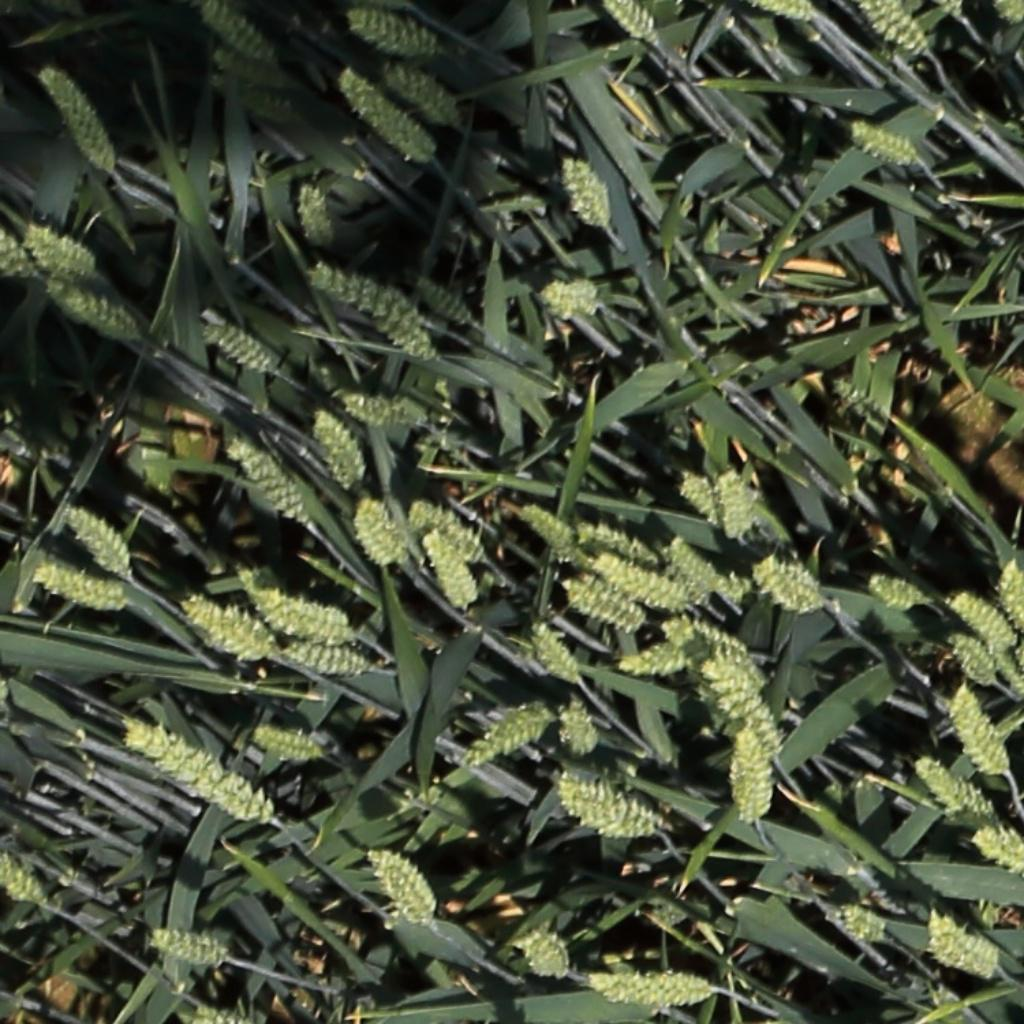0-0: (120, 713, 280, 831), (36, 62, 128, 187), (334, 68, 439, 171), (302, 259, 438, 332), (696, 656, 788, 759), (710, 723, 784, 830), (223, 436, 309, 527), (558, 777, 661, 850), (191, 305, 287, 377), (176, 594, 281, 659), (364, 849, 445, 931), (197, 0, 284, 76), (249, 589, 363, 646), (910, 751, 995, 827), (45, 278, 146, 341), (559, 577, 659, 640), (383, 62, 474, 130), (946, 684, 1010, 779), (460, 706, 556, 768), (748, 557, 841, 621), (655, 615, 758, 672), (584, 970, 727, 1011), (416, 522, 476, 617), (60, 502, 132, 581), (360, 301, 444, 368), (668, 530, 742, 605), (559, 151, 618, 242), (31, 566, 141, 614), (925, 914, 998, 985), (861, 1, 939, 66), (307, 405, 364, 491), (592, 563, 685, 615), (405, 501, 484, 559), (640, 543, 710, 608), (344, 8, 440, 55), (524, 615, 582, 689), (270, 638, 376, 678), (948, 592, 1014, 655), (336, 390, 435, 432), (847, 120, 928, 169), (352, 498, 406, 570), (570, 524, 659, 567), (517, 503, 581, 559), (23, 225, 94, 274), (410, 275, 481, 324), (970, 823, 1024, 887), (944, 630, 998, 690), (146, 929, 228, 968), (674, 472, 726, 531), (861, 571, 933, 613), (603, 0, 660, 53), (247, 729, 329, 765), (293, 176, 331, 251), (0, 853, 49, 910), (0, 225, 45, 286), (512, 931, 567, 978), (996, 557, 1024, 647), (833, 901, 889, 943), (989, 638, 1024, 705), (559, 697, 593, 764), (617, 648, 693, 677), (718, 464, 745, 544), (756, 0, 836, 26), (187, 1004, 247, 1024)
